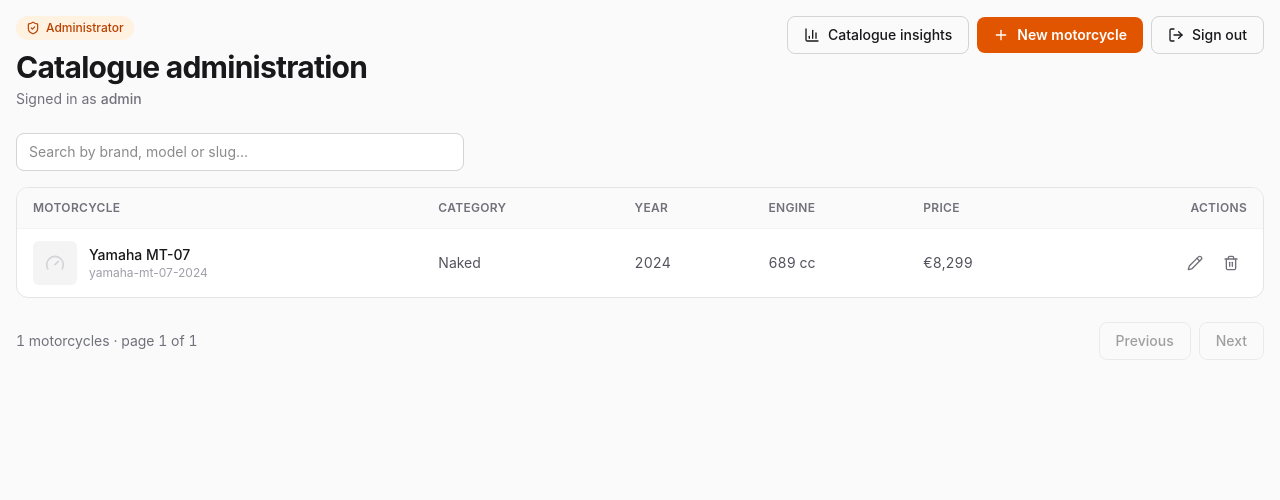
Test: AdminPage authentication gate › returns to the login form when the admin signs out
The image size is (1280, 500).
Check: the heading "Catalogue administration" is shown, box [16,49,367,85]
Click the button "Sign out". click: (1208, 35)
box: [1151,16,1264,54]
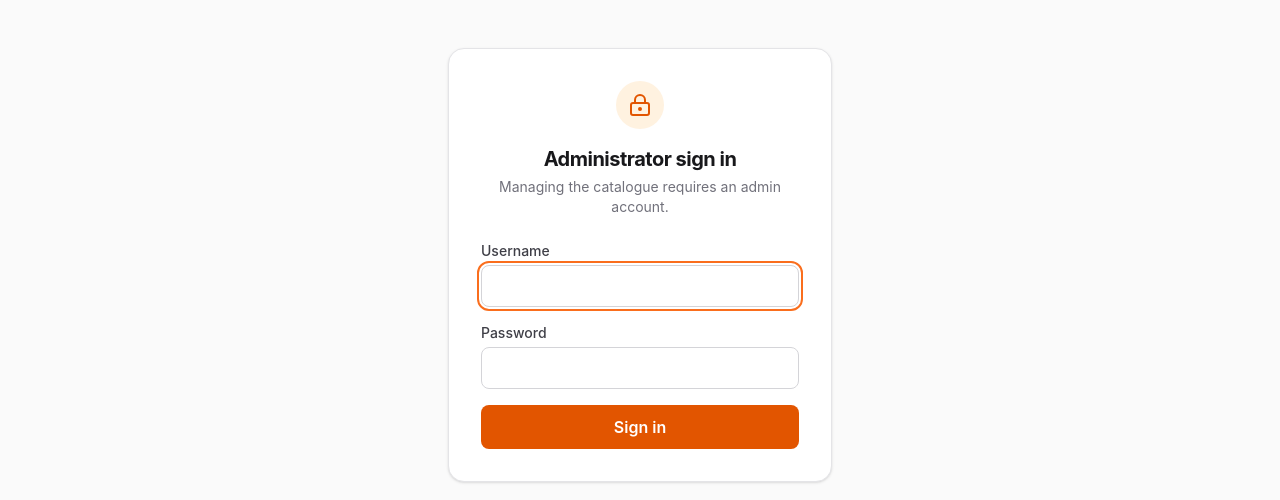
Check: the heading "Administrator sign in" is shown, box [544,147,736,171]
